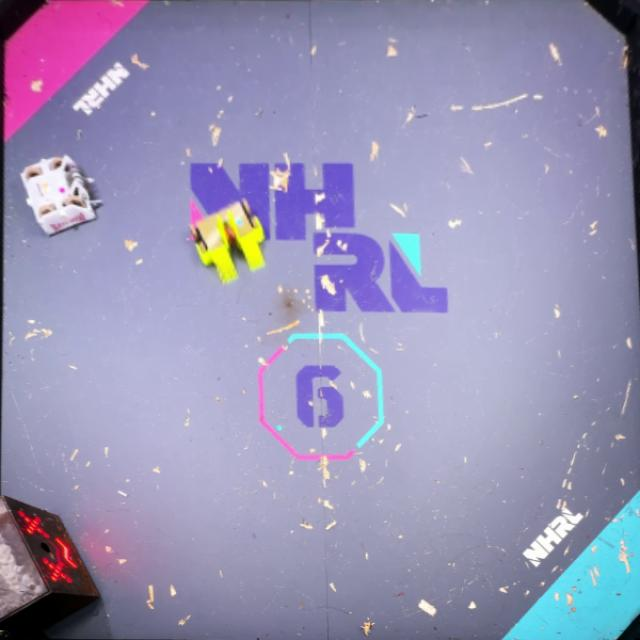housebot: (0, 493, 103, 640)
robot: (20, 154, 103, 238), (197, 196, 267, 282)
